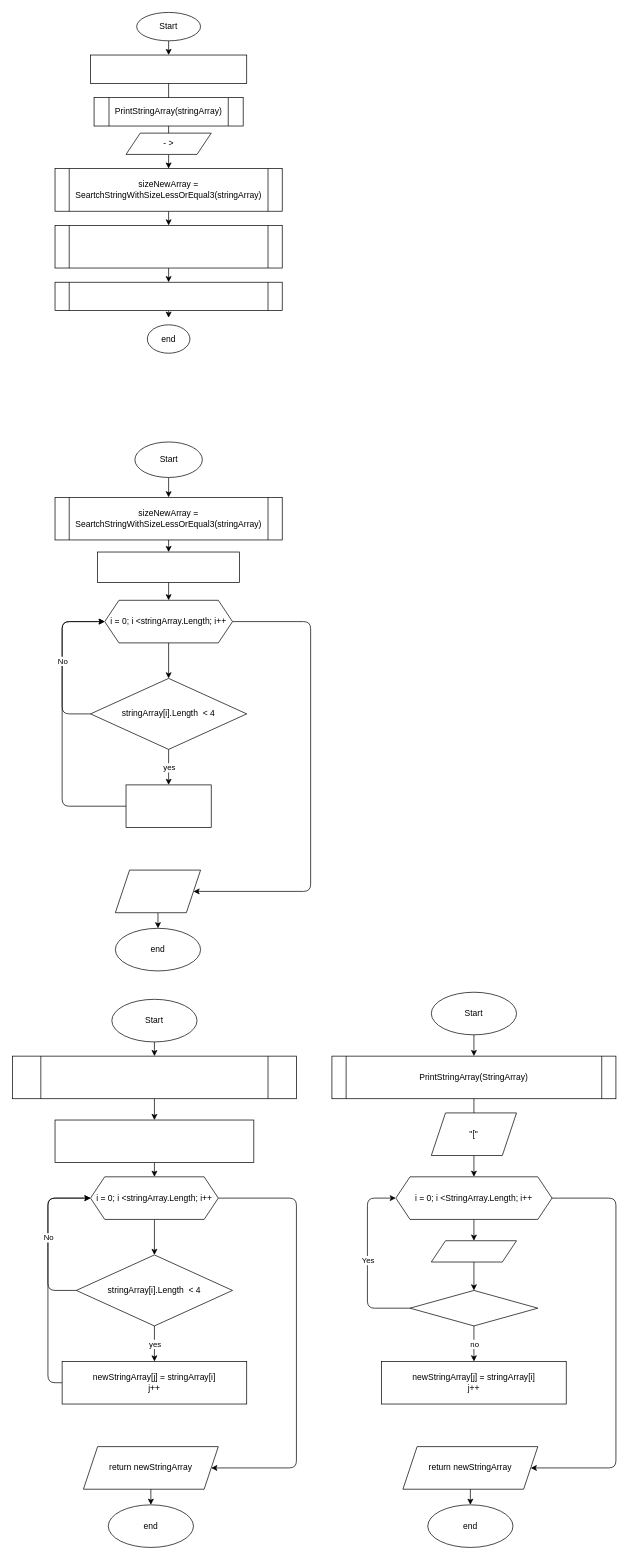
Image size: 634x1560. Some labels were removed from this diagram. Each missing label, with the centre of its shape:
"stringArray[i]": [474,1251]
CreateArrayWithSizeLessOrEqual3 (stringArray, sizeNewArray): [154,1077]
i == stringArray.Length -1: [473,1308]
newStringArray = CreateArrayWithSizeLessOrEqual3 (stringArray, sizeNewArray): [168,246]
numberOfStrings = 0; i = 0;: [168,567]
numberOfStrings++: [168,806]
PrintArray (newStringArray): [168,296]
return numberOfStrings: [158,891]
string[] newStringArray = new string [sizeNewArray] j = 0: [154,1141]
stringArray = ["hello", "2", "world", ":-)"]: [168,68]
